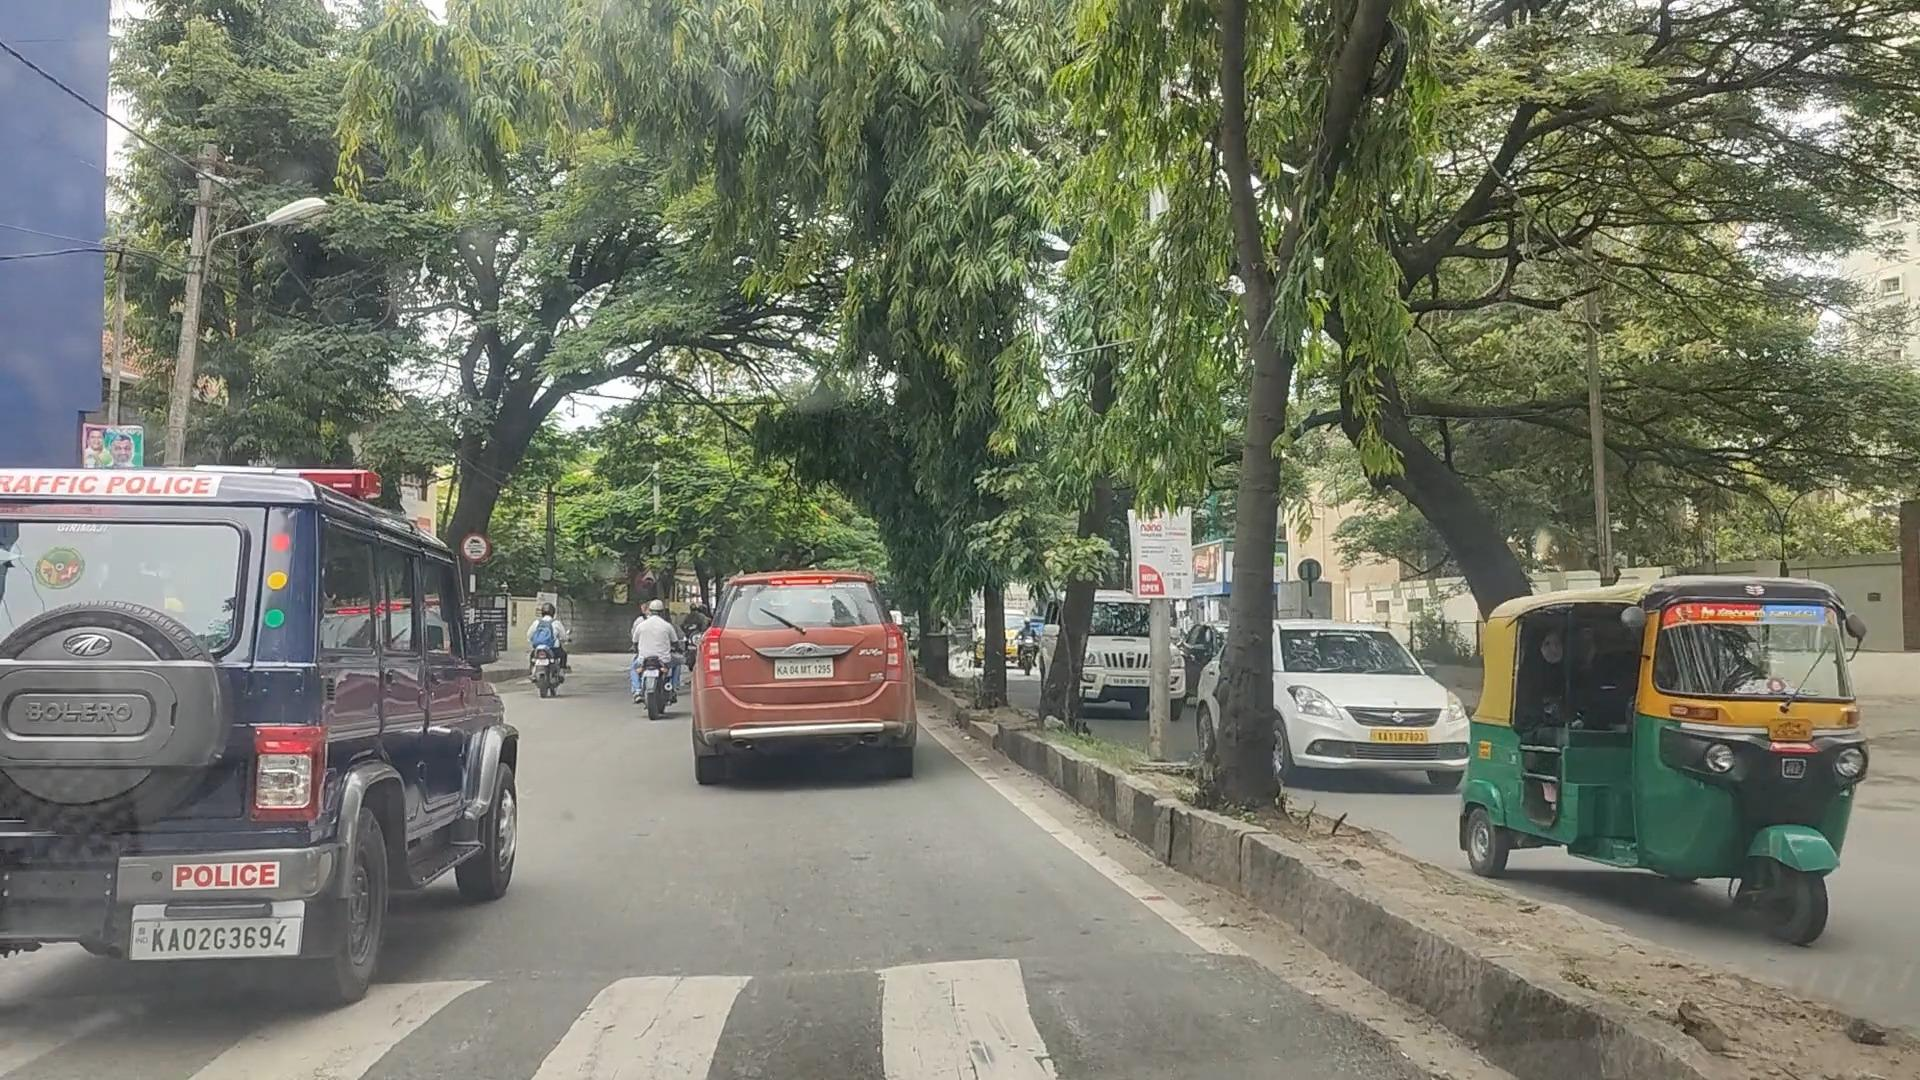LMV: (11, 468, 517, 988), (703, 563, 913, 781)
SpeedBump: (363, 935, 1044, 1080)
